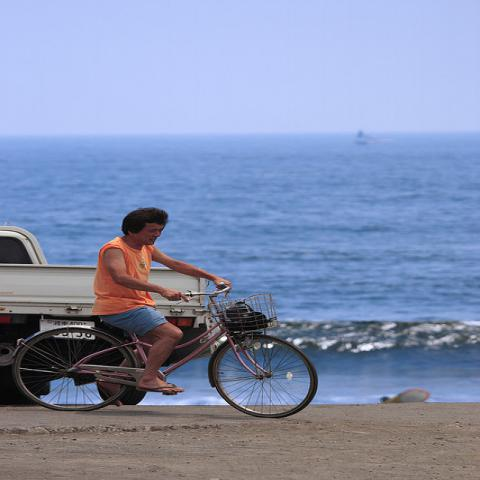truck: (0, 221, 205, 408)
